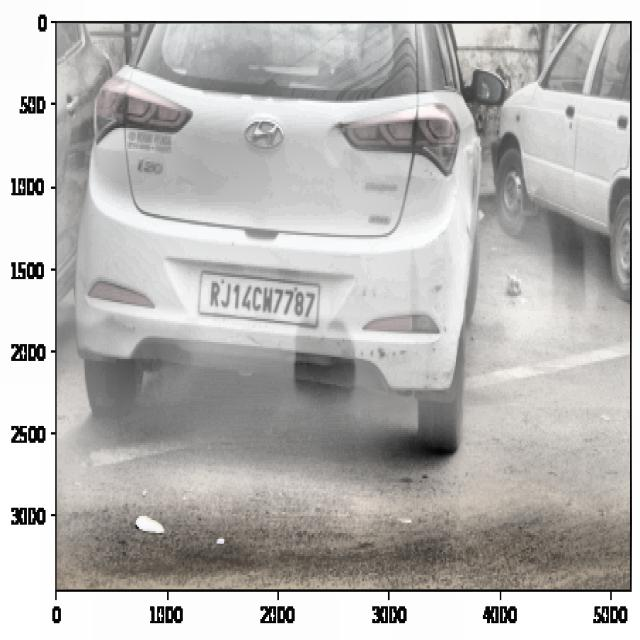license_plate: (206, 272, 319, 326)
